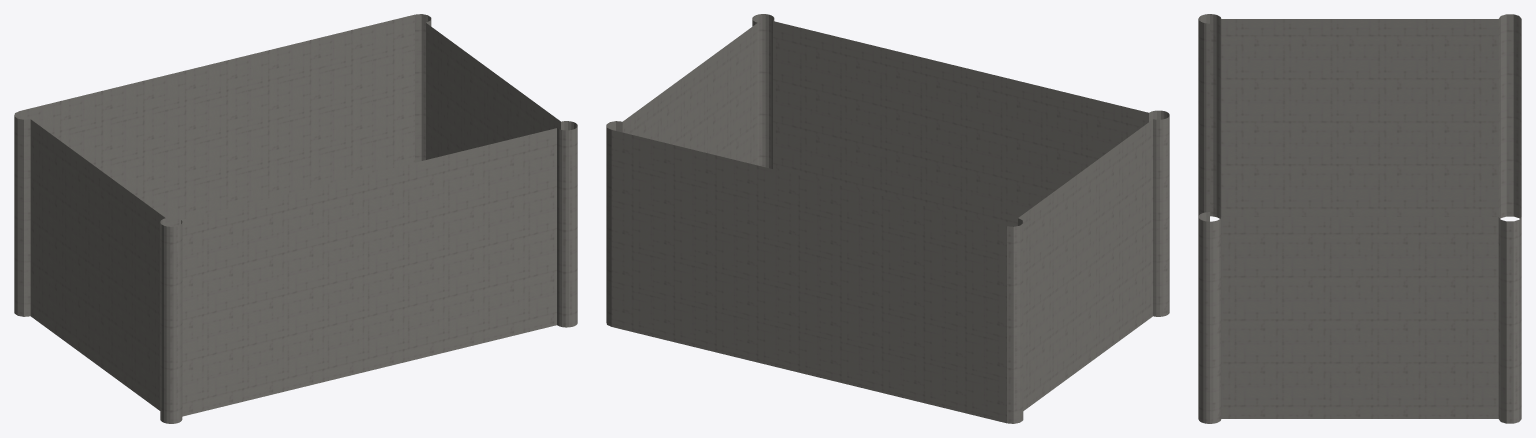
File: SM_ENV_TCHEXA_Building_D.fbx
The picture shows the model from 3 angles, left to right: view 1: azimuth 30°, elevation 25°; view 2: azimuth 150°, elevation 25°; view 3: azimuth 270°, elevation 25°; orthographic projection. The views are drawn at different scales.
Visible parts, largest first — view 1: SM_ENV_TCHEXA_Building_D.mo; view 2: SM_ENV_TCHEXA_Building_D.mo; view 3: SM_ENV_TCHEXA_Building_D.mo.
Part boxes in pixels (box(x1,y1,x2,y2)): SM_ENV_TCHEXA_Building_D.mo: box(14, 14, 577, 423); SM_ENV_TCHEXA_Building_D.mo: box(606, 14, 1169, 423); SM_ENV_TCHEXA_Building_D.mo: box(1198, 14, 1521, 423).
Size of the model in its own units: 4059 by 1844 by 2669.
